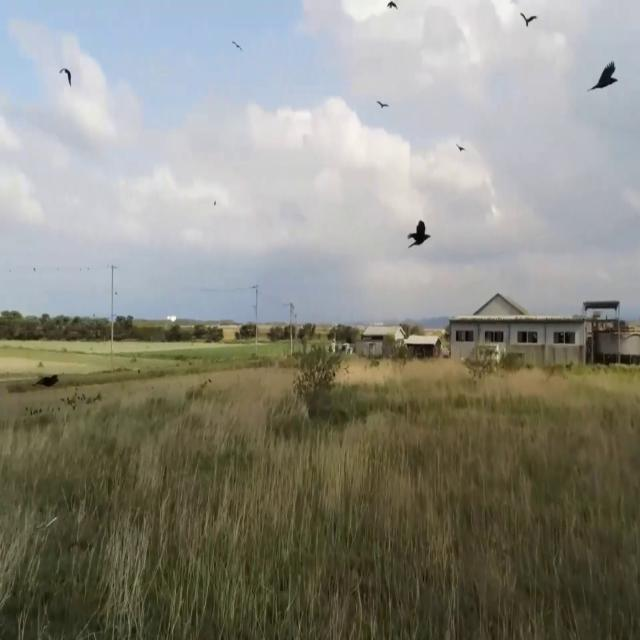bird: (588, 42, 619, 113), (406, 204, 431, 266), (518, 3, 538, 41), (59, 58, 72, 96), (375, 91, 389, 122), (231, 30, 243, 60), (455, 136, 465, 162), (386, 0, 398, 19)
